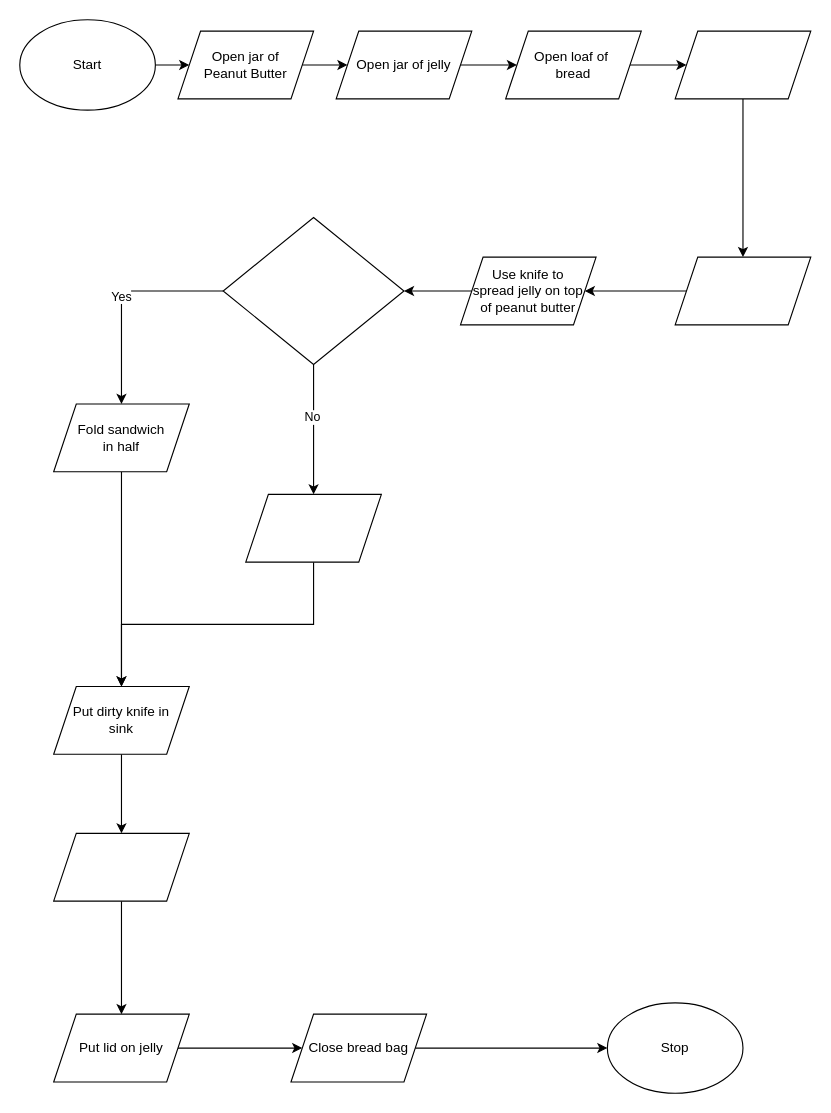
The diagram is 831 pixels wide and 1113 high, and some of its shapes have lost their labels. The centre of each missing label's shape, as x and y in pixels:
Do you want a foldover sandwich?: pixel 313 290
Place slice of bread on plate: pixel 742 64
Place slice of bread on top of sandwich: pixel 313 527
Put lid on peanut butter: pixel 121 866
Use knife to spread peanut butter on bread: pixel 742 290
